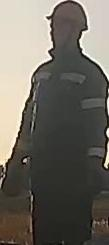gloves: (0, 145, 28, 198), (82, 151, 108, 197)
helmet: (45, 0, 89, 39)
vest: (25, 54, 108, 188)
